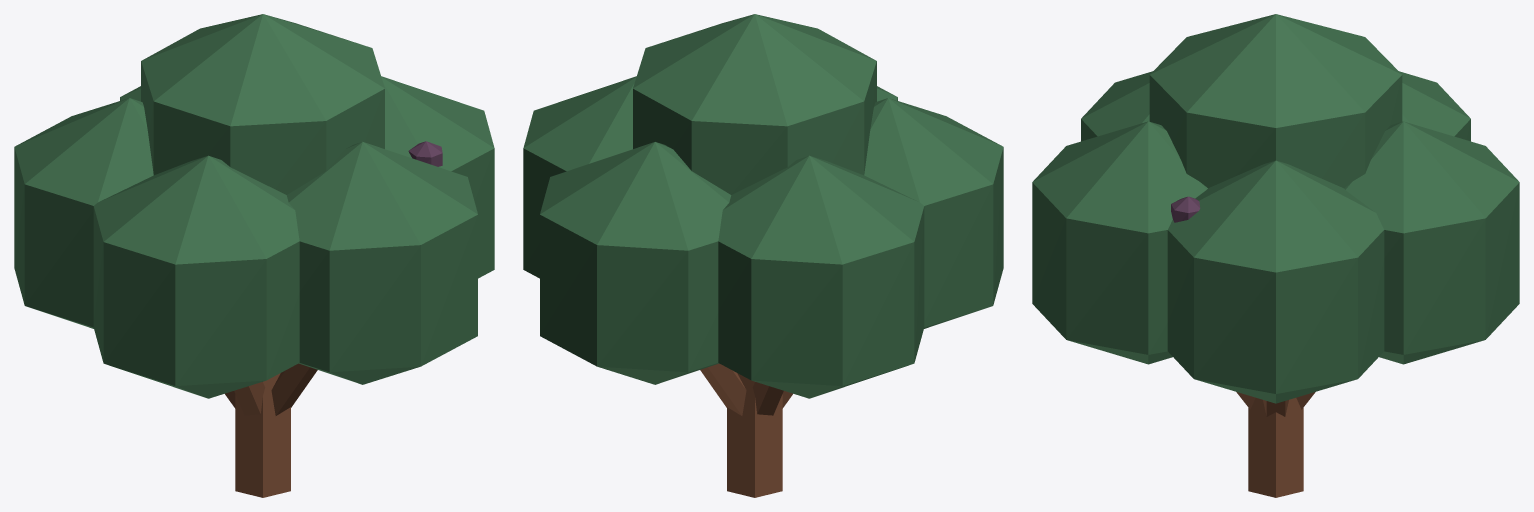
The model's file is bush_summer.glb.
The picture shows the model from 3 angles, left to right: view 1: azimuth 30°, elevation 25°; view 2: azimuth 150°, elevation 25°; view 3: azimuth 270°, elevation 25°; orthographic projection.
Visible parts, largest first — view 1: geometry; view 2: geometry; view 3: geometry.
Part boxes in pixels (x1,y1,x2,y2): geometry: [14, 14, 494, 497]; geometry: [523, 14, 1003, 497]; geometry: [1032, 14, 1519, 497].
Bounding box in the file's own units: 0.8318 × 0.89 × 0.8359.
